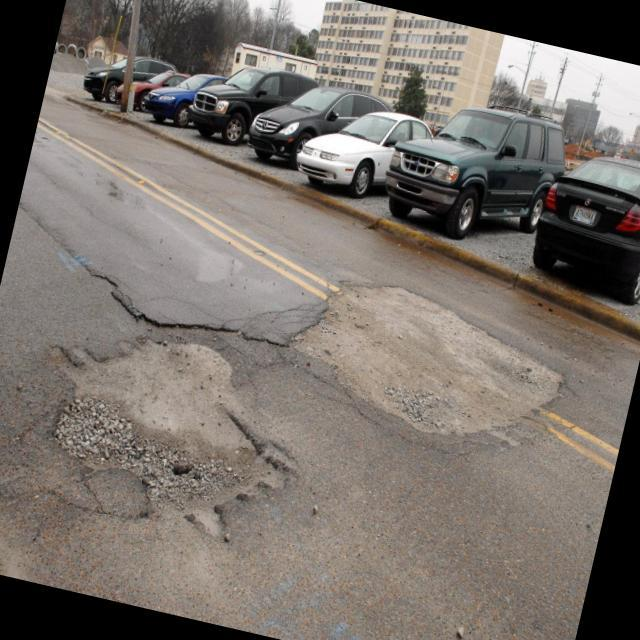Pothole: (3, 302, 324, 554), (268, 258, 582, 469)
